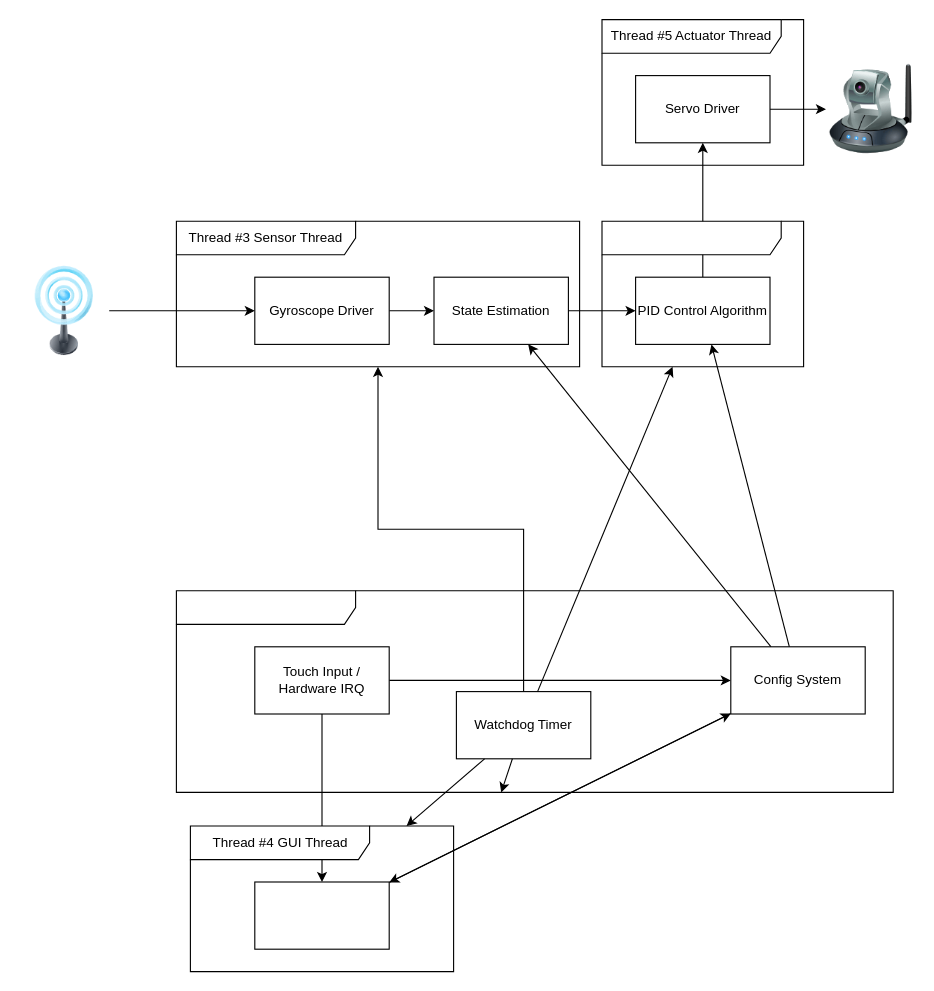
This 934x991 diagram has some shape labels left out. The shapes that lost their labels are listed below. From the top down, each one's box as (x1, y1, x2, y2) in pixels, then its label:
(825, 64, 915, 153): Servo's
(19, 265, 109, 355): Gyroscope
(601, 220, 804, 367): Thread #2 Control Thread
(175, 590, 893, 792): Thread #1 System Thread
(254, 881, 389, 949): GUI / Display
